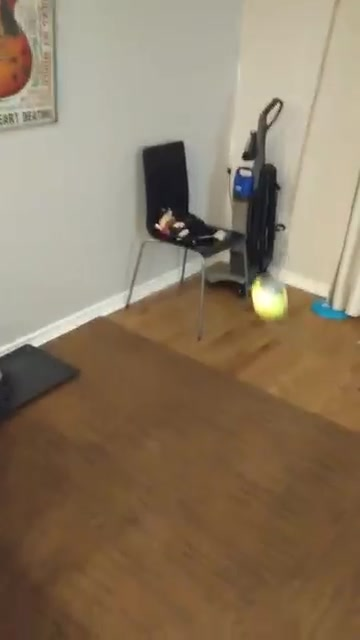tennis_ball: (248, 273, 290, 324)
